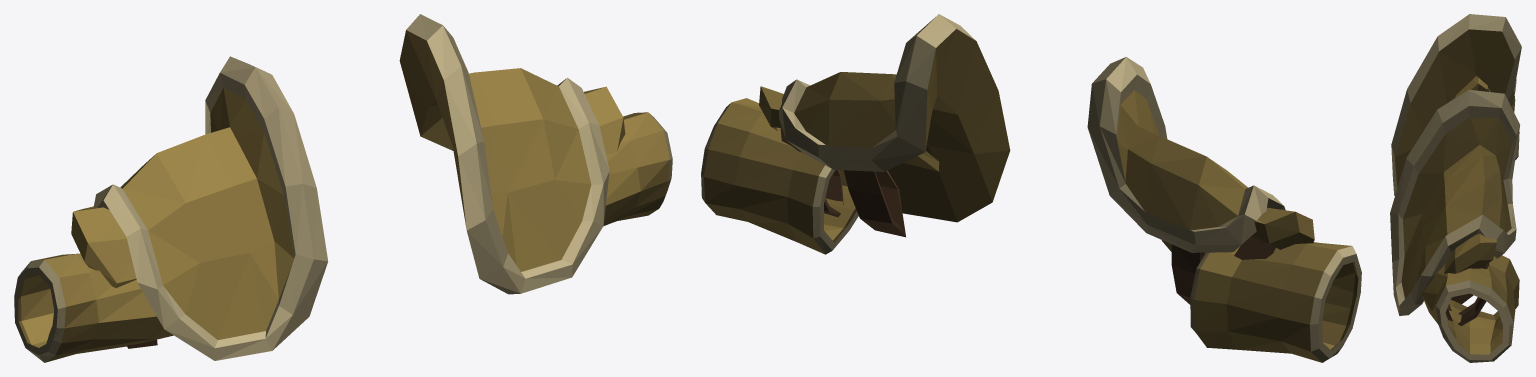
File: gold_shoulders.glb
3 renders of one model, left to right at view 1: azimuth 30°, elevation 25°; view 2: azimuth 150°, elevation 25°; view 3: azimuth 270°, elevation 25°, orthographic. The views are drawn at different scales.
Parts seen in each view (by area): view 1: gold_shoulders; view 2: gold_shoulders; view 3: gold_shoulders.
Boxes of the visible parts, x1=… form: gold_shoulders: x1=14, y1=14, x2=672, y2=362; gold_shoulders: x1=701, y1=14, x2=1361, y2=362; gold_shoulders: x1=1390, y1=14, x2=1521, y2=362.
Size of the model in its own units: 1 by 0.3922 by 0.2322.
